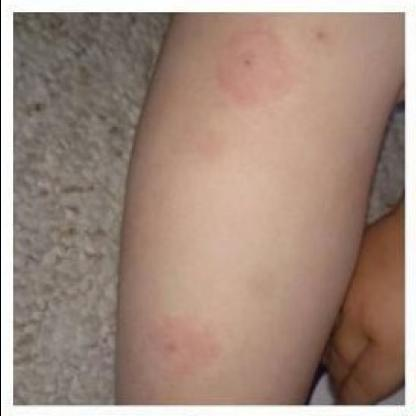Tick: (216, 26, 294, 113), (142, 310, 224, 386)
